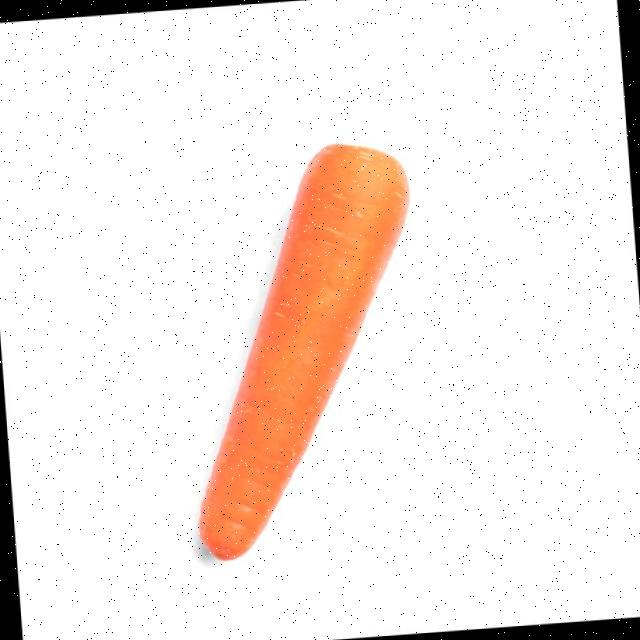carrot: (200, 146, 409, 559)
